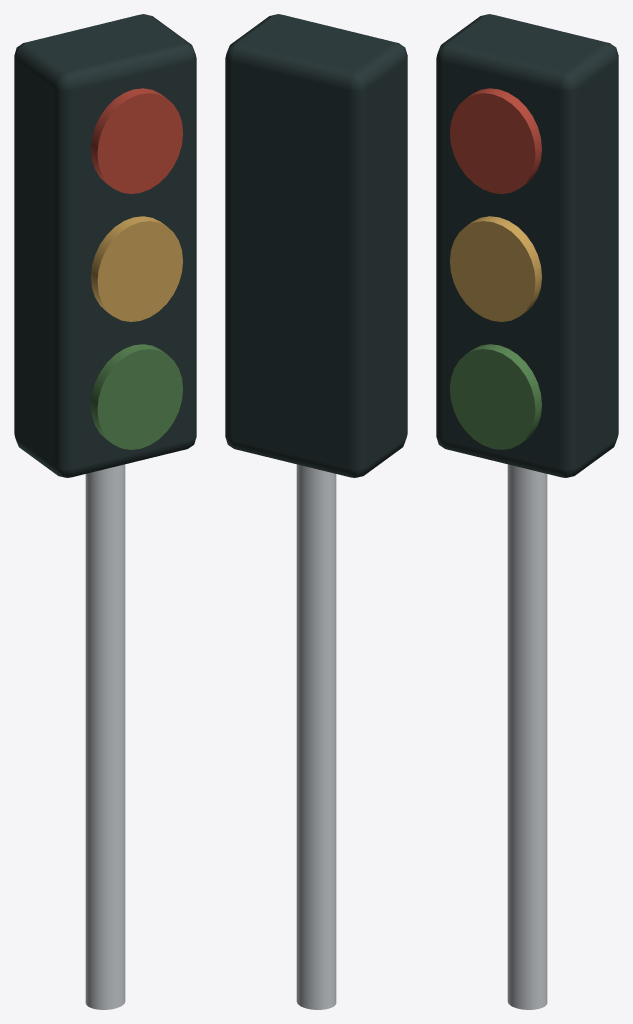
Rendered from wp-feu-tricolore.glb.
3 renders of one model, left to right at view 1: azimuth 30°, elevation 25°; view 2: azimuth 150°, elevation 25°; view 3: azimuth 330°, elevation 25°, orthographic.
Visible parts, largest first — view 1: wp-feu-tricolore; view 2: wp-feu-tricolore; view 3: wp-feu-tricolore.
Part boxes in pixels (left/top/right/bottom): wp-feu-tricolore: left=14, top=14, right=196, bottom=1009; wp-feu-tricolore: left=225, top=14, right=407, bottom=1009; wp-feu-tricolore: left=436, top=14, right=618, bottom=1009.
Size of the model in its own units: 0.4 by 2.6 by 0.3.
